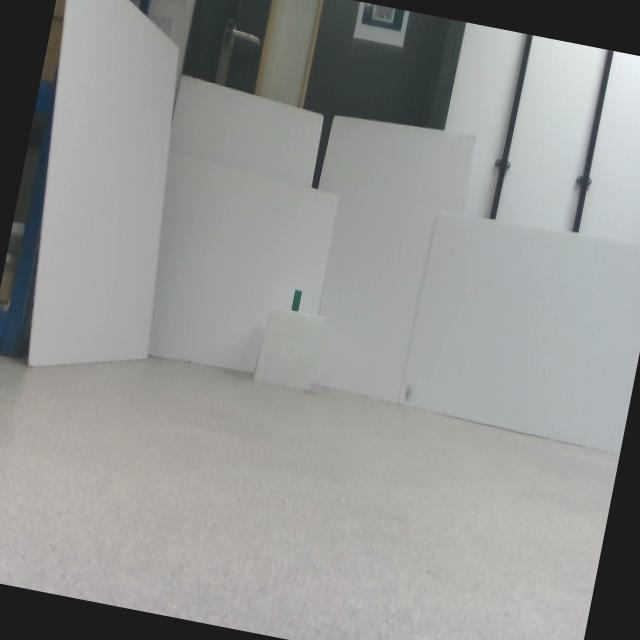green_cylinder: (291, 290, 302, 312)
